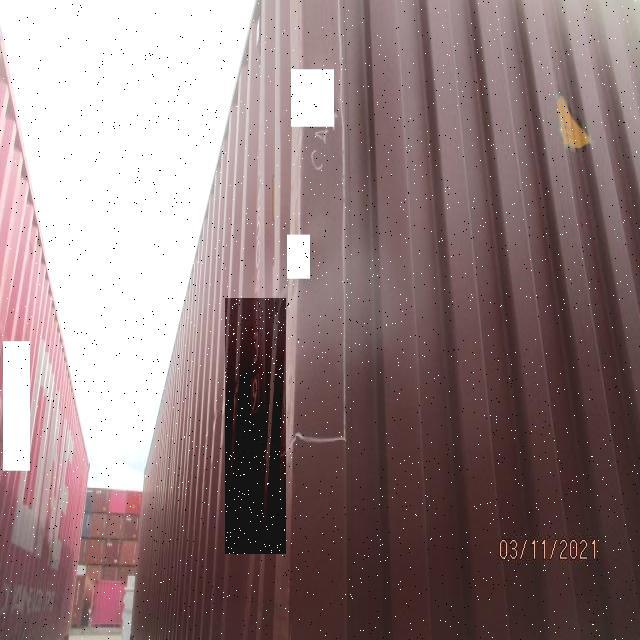Dent: (225, 299, 286, 555)
